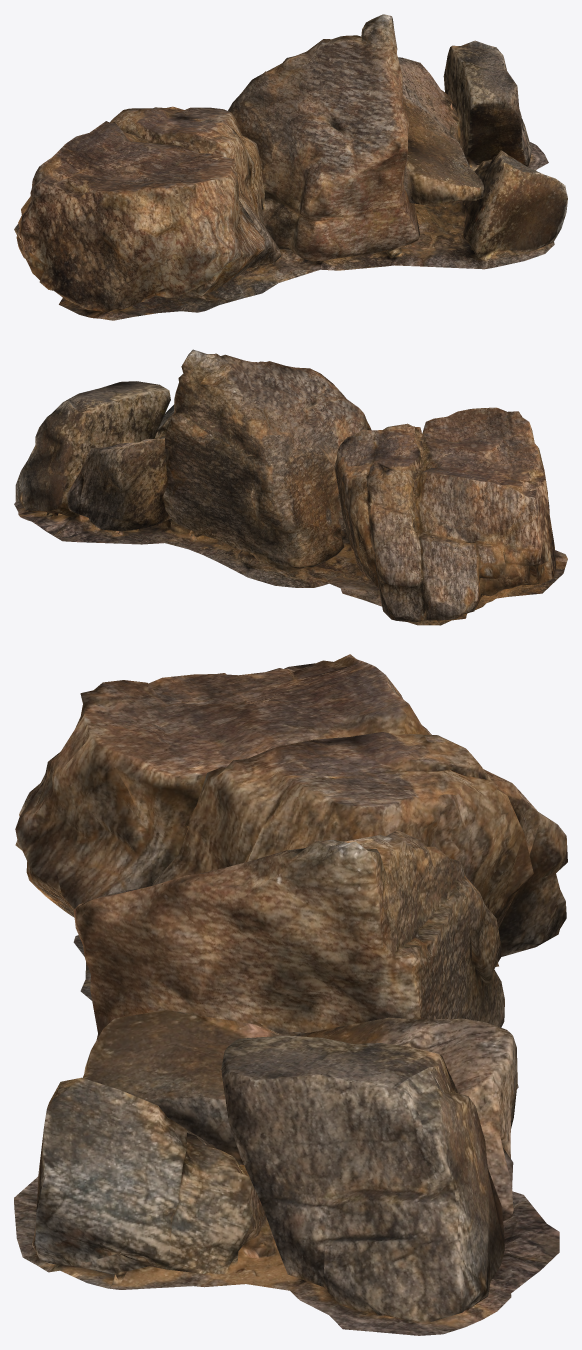
File: namaqualand_boulder_02-near.glb
The picture shows the model from 3 angles, top to bottom: view 1: azimuth 30°, elevation 25°; view 2: azimuth 150°, elevation 25°; view 3: azimuth 270°, elevation 25°; orthographic projection. The views are drawn at different scales.
Parts seen in each view (by area): view 1: boulder_02; view 2: boulder_02; view 3: boulder_02.
Boxes of the visible parts, x1,y1,x2,y2 form: boulder_02: (14, 14, 567, 320); boulder_02: (14, 349, 567, 625); boulder_02: (14, 654, 567, 1335).
Bounding box in the file's own units: 1.99 × 0.6954 × 0.9702.
1 material, 1 textured.
